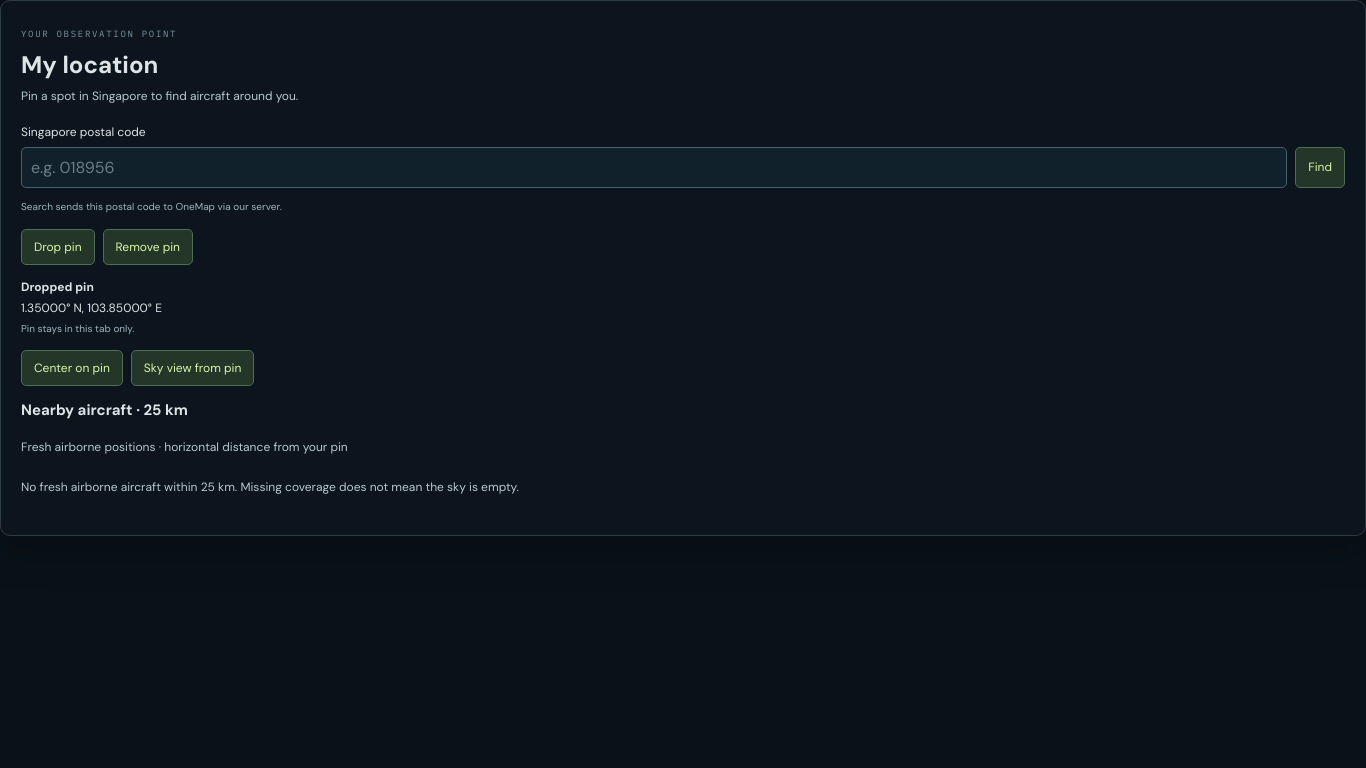
Test case: keeps a saved pin on search failure and can remove it
Later steps or results of the test are not shown.
Type "123456" into the field labelled "Singapore postal code" at (654, 167), box left=21, top=147, right=1287, bottom=188
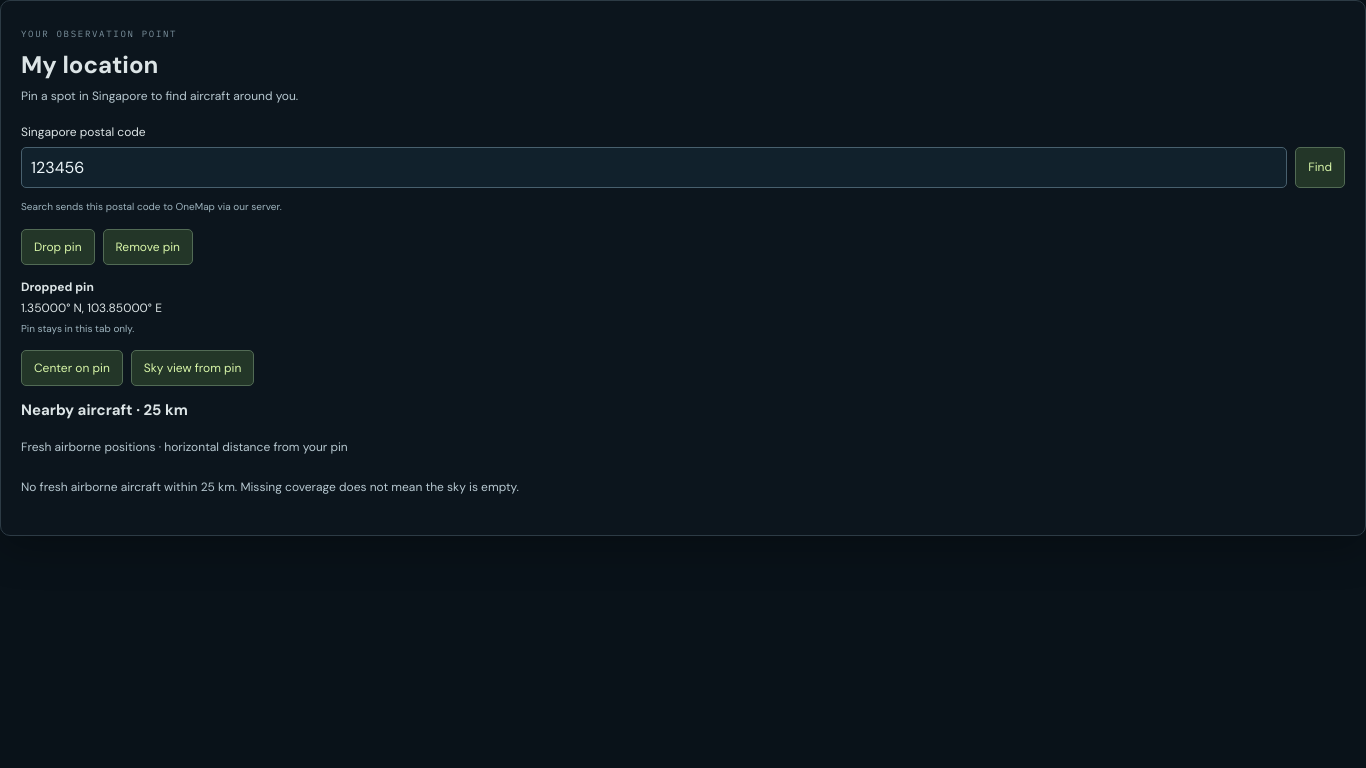
Submit the form named "Find postal code", box left=21, top=124, right=1345, bottom=215
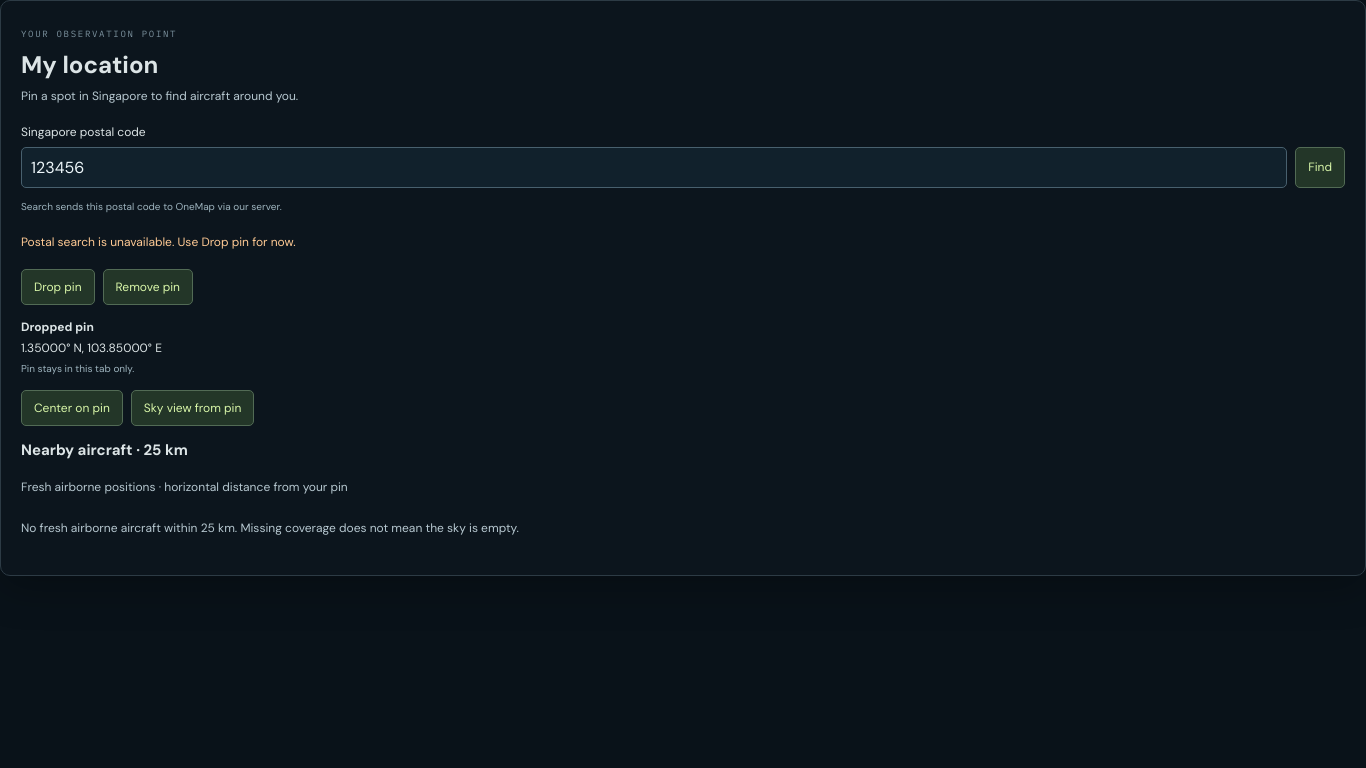
Now the message shows "Drop pin", box left=21, top=234, right=296, bottom=250
